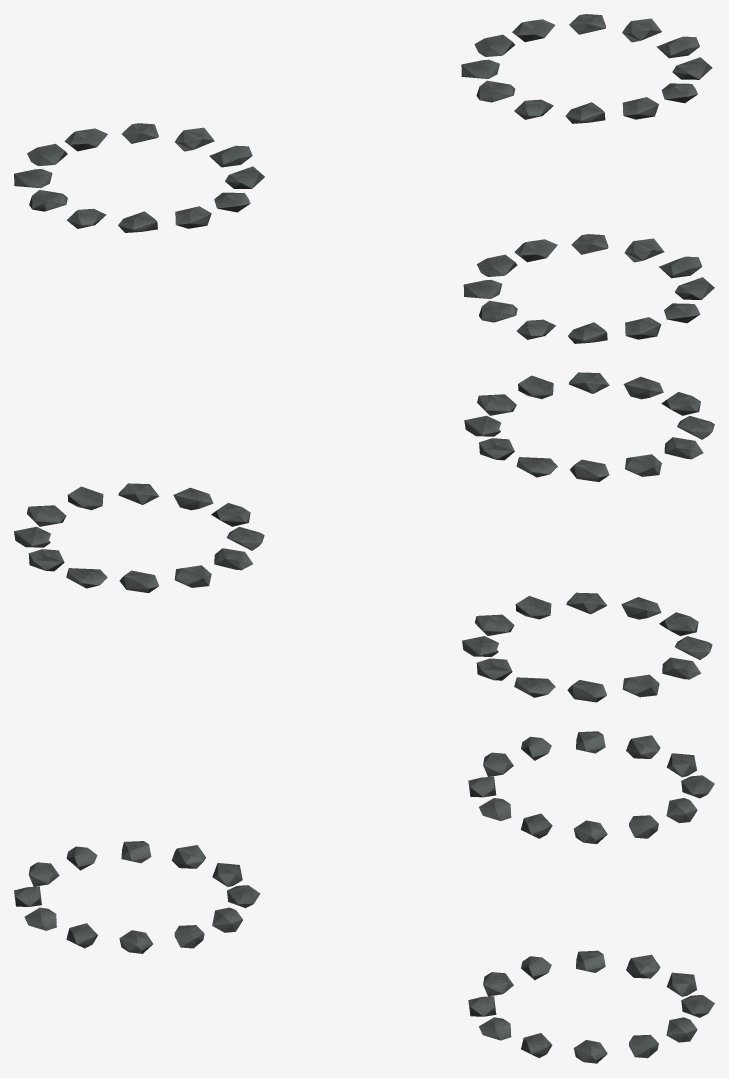
Rendered from rocks.tide_pool_shelf.lod2.glb.
3 views of the same model, one above another, from view 1: azimuth 30°, elevation 25°; view 2: azimuth 150°, elevation 25°; view 3: azimuth 270°, elevation 25° (orthographic).
Visible parts, largest first — view 1: PoolRim.003, PoolRim.015, PoolRim.027, PoolRim.009, PoolRim.033, PoolRim.028, PoolRim.013, PoolRim.024, PoolRim, PoolRim.012, PoolRim.021, PoolRim.004 (+24 smaller); view 2: PoolRim.029, PoolRim.005, PoolRim.017, PoolRim.028, PoolRim.004, PoolRim.016, PoolRim.024, PoolRim.012, PoolRim.030, PoolRim, PoolRim.006, PoolRim.018 (+24 smaller); view 3: PoolRim.029, PoolRim.005, PoolRim.017, PoolRim.014, PoolRim.002, PoolRim.026, PoolRim.012, PoolRim.024, PoolRim, PoolRim.025, PoolRim.003, PoolRim.027 (+18 smaller).
Boxes of the visible parts, x1=… form: PoolRim.003: x1=64, y1=128, x2=107, y2=151; PoolRim.015: x1=512, y1=19, x2=555, y2=42; PoolRim.027: x1=514, y1=239, x2=557, y2=262; PoolRim.009: x1=175, y1=206, x2=211, y2=228; PoolRim.033: x1=625, y1=317, x2=661, y2=339; PoolRim.028: x1=476, y1=254, x2=517, y2=276; PoolRim.013: x1=622, y1=18, x2=661, y2=42; PoolRim.024: x1=659, y1=256, x2=702, y2=278; PoolRim: x1=209, y1=145, x2=252, y2=167; PoolRim.012: x1=656, y1=36, x2=699, y2=58; PoolRim.021: x1=622, y1=97, x2=658, y2=119; PoolRim.004: x1=27, y1=143, x2=67, y2=165; PoolRim.029: x1=625, y1=454, x2=661, y2=476; PoolRim.005: x1=622, y1=674, x2=659, y2=697; PoolRim.017: x1=174, y1=565, x2=211, y2=587; PoolRim.028: x1=570, y1=459, x2=609, y2=481; PoolRim.004: x1=567, y1=680, x2=606, y2=702; PoolRim.016: x1=119, y1=570, x2=158, y2=593; PoolRim.024: x1=477, y1=394, x2=516, y2=415; PoolRim.012: x1=27, y1=505, x2=66, y2=526; PoolRim.030: x1=664, y1=437, x2=703, y2=459; PoolRim: x1=474, y1=614, x2=514, y2=635; PoolRim.006: x1=662, y1=657, x2=701, y2=679; PoolRim.018: x1=214, y1=548, x2=252, y2=570; PoolRim.029: x1=171, y1=845, x2=205, y2=868; PoolRim.005: x1=626, y1=735, x2=660, y2=758; PoolRim.017: x1=626, y1=954, x2=660, y2=978; PoolRim.014: x1=666, y1=1017, x2=697, y2=1042; PoolRim.002: x1=666, y1=798, x2=697, y2=822; PoolRim.026: x1=212, y1=907, x2=242, y2=932; PoolRim.012: x1=573, y1=1040, x2=607, y2=1063; PoolRim.024: x1=119, y1=930, x2=152, y2=953; PoolRim: x1=574, y1=820, x2=607, y2=844; PoolRim.025: x1=174, y1=925, x2=204, y2=948; PoolRim.003: x1=681, y1=775, x2=714, y2=798; PoolRim.027: x1=227, y1=885, x2=260, y2=908.
Bounding box in the file's own units: 23.89 × 0.6358 × 21.6.
1 material, 1 textured.
